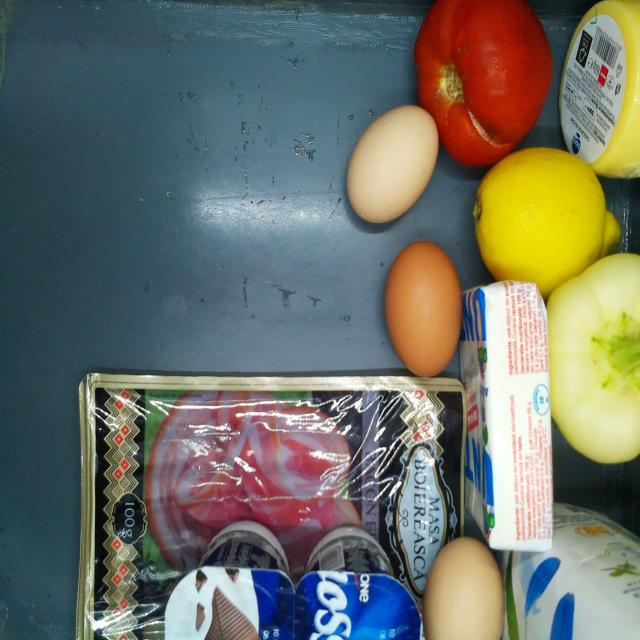bacon: (80, 375, 464, 640)
butter: (463, 284, 555, 546)
cheese: (559, 7, 639, 176)
eggs: (384, 240, 462, 380), (347, 106, 438, 224), (427, 533, 503, 640)
lemon: (471, 149, 620, 283)
milk: (518, 506, 636, 640)
pepper: (550, 254, 640, 460)
tomatoes: (417, 3, 554, 167)
yogurt: (165, 522, 295, 640), (299, 524, 421, 640)
